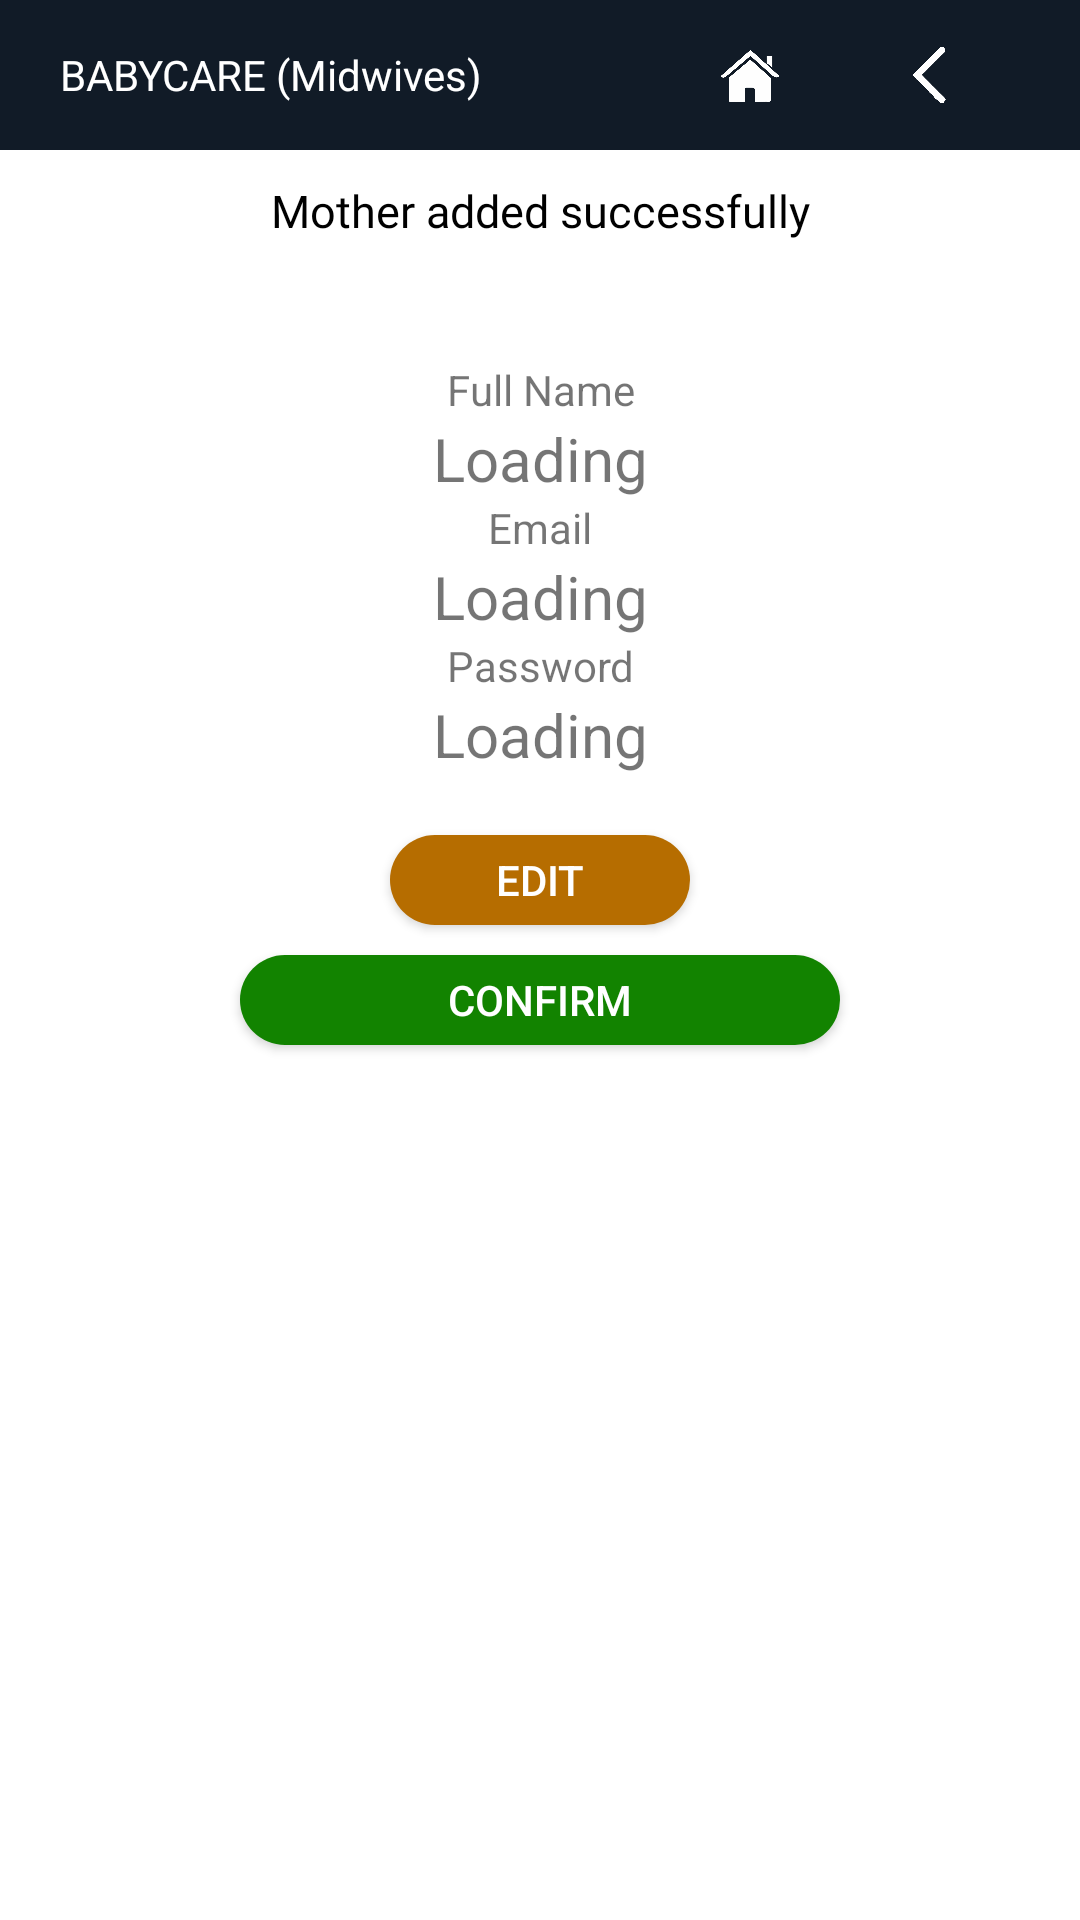

Where icons sit on this 1080 × 1920 app screen, as (x1, y1, x2, y2):
back: (913, 47, 946, 103)
home: (721, 50, 779, 102)
